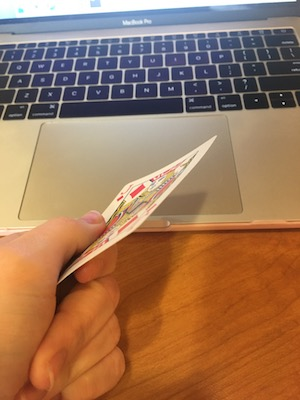JackOfDiamonds: (63, 132, 218, 295)
